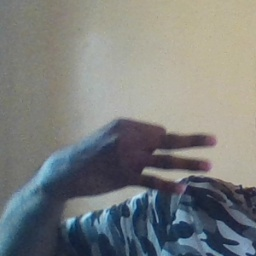K: (58, 116, 216, 198)
